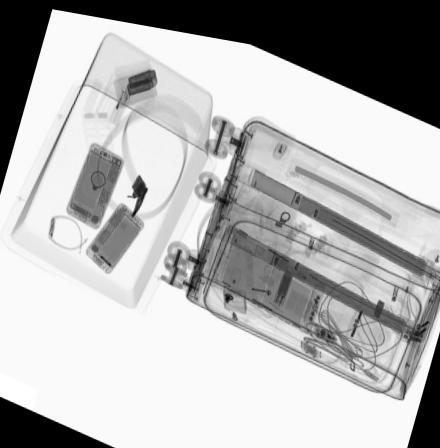Lighter: (108, 81, 132, 124)
